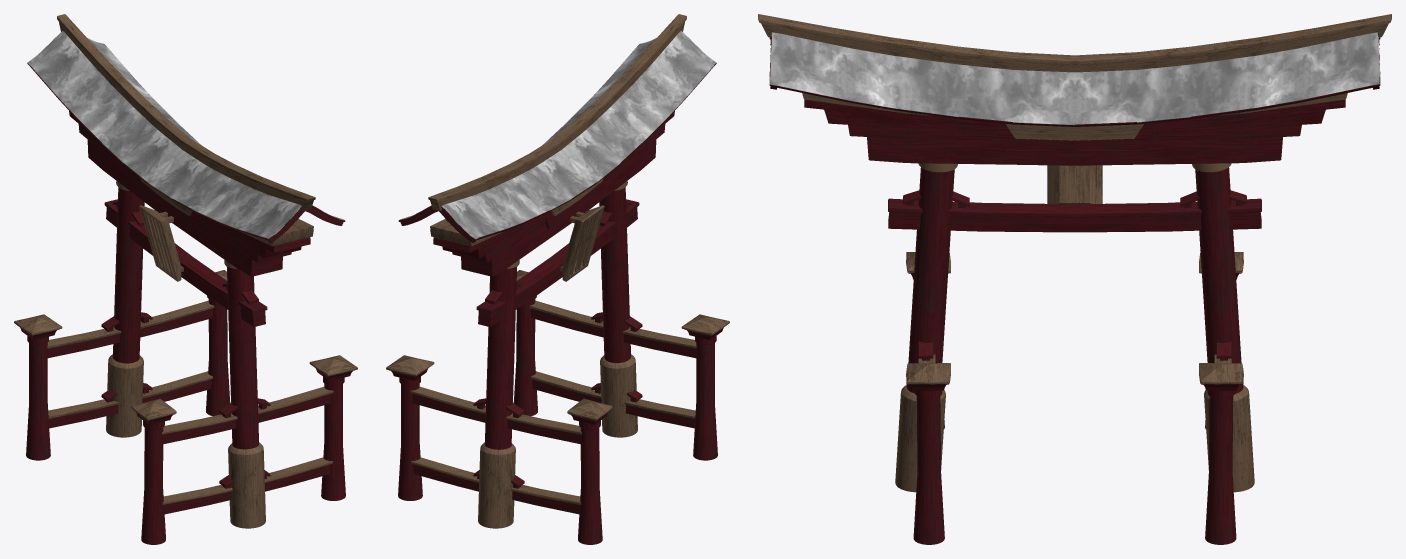
File: SM_Torii_04.fbx
The picture shows the model from 3 angles, left to right: view 1: azimuth 30°, elevation 25°; view 2: azimuth 150°, elevation 25°; view 3: azimuth 270°, elevation 25°; orthographic projection. The views are drawn at different scales.
Visible parts, largest first — view 1: SM_Torii_04; view 2: SM_Torii_04; view 3: SM_Torii_04.
Boxes of the visible parts, box(x1,y1,x2,y2) form: SM_Torii_04: box(14, 14, 357, 544); SM_Torii_04: box(386, 14, 729, 544); SM_Torii_04: box(758, 14, 1391, 544).
Bounding box in the file's own units: 520 × 1073 × 871.
3 materials, 3 textured.
